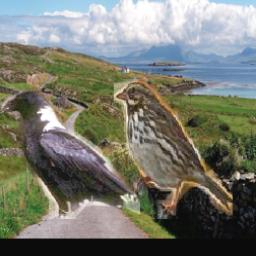Crow: (2, 85, 141, 219)
Sparrow: (115, 79, 234, 219)
